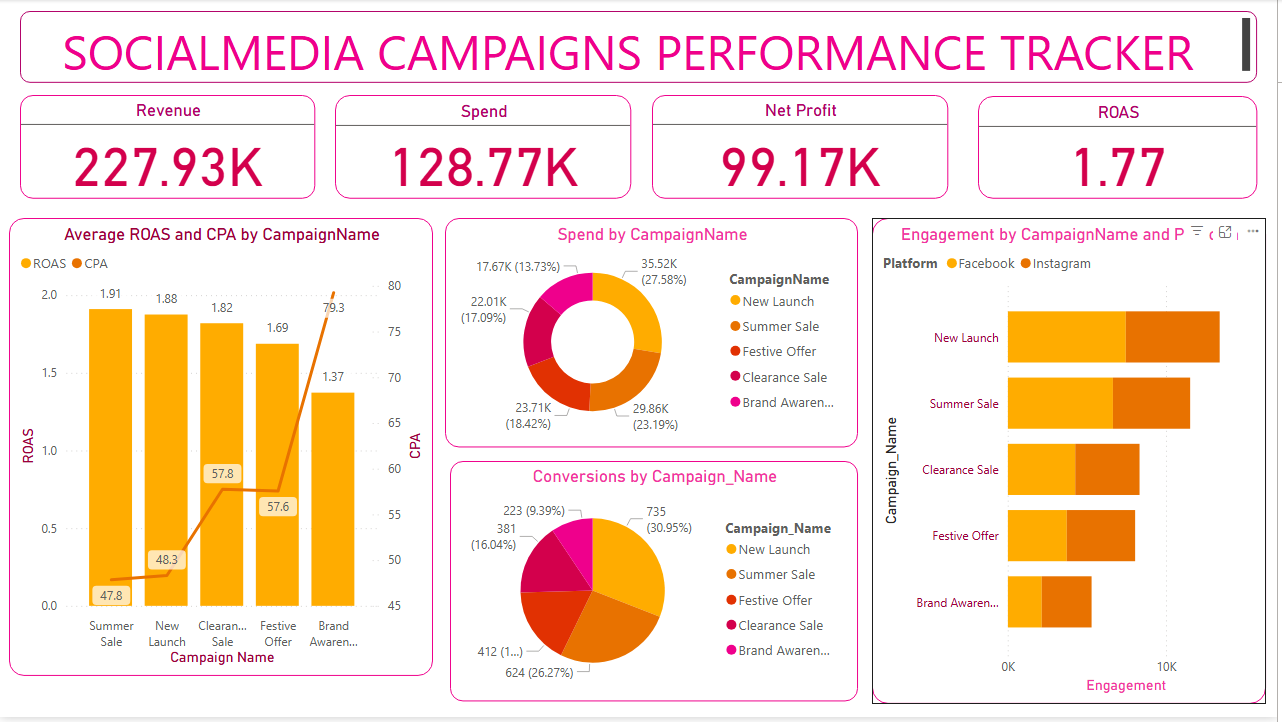

Layout of this report page (visuals, bound fields, positions):
{"tool":"powerbi","page":{"name":"Page 1","canvas":[1280,720],"ordinal":0},"visuals":[{"type":"textbox","box":[20,12,1239.9,72.2],"z":0},{"type":"card","title":"Revenue","fields":{"Values":["Sum(Social_Media_Campaign_Data (2).Revenue)"]},"box":[20,96.2,295.7,104.2],"z":1000},{"type":"lineClusteredColumnComboChart","title":"Average ROAS and CPA by CampaignName","fields":{"Category":["Social_Media_Campaign_Data (2).Campaign_Name"],"Y":["Social_Media_Campaign_Data (2).ROAS"],"Y2":["Social_Media_Campaign_Data (2).CPA"]},"box":[9,219.5,425,459.1],"z":2000},{"type":"donutChart","title":"Spend by CampaignName","fields":{"Y":["Sum(Social_Media_Campaign_Data (2).Spend)"],"Category":["Social_Media_Campaign_Data (2).Campaign_Name"]},"box":[446,219.5,414,229.5],"z":3000},{"type":"pieChart","title":"Conversions by Campaign_Name","fields":{"Y":["Sum(Social_Media_Campaign_Data (2).Conversions)"],"Category":["Social_Media_Campaign_Data (2).Campaign_Name"]},"box":[451.1,463.1,409,240.6],"z":4000},{"type":"barChart","title":"Engagement by CampaignName and Platform","fields":{"Y":["Social_Media_Campaign_Data (2).Engagement"],"Category":["Social_Media_Campaign_Data (2).Campaign_Name"],"Series":["Social_Media_Campaign_Data (2).Platform"]},"box":[874,219.5,394.9,487.1],"z":5000},{"type":"card","title":"Spend","fields":{"Values":["Sum(Social_Media_Campaign_Data (2).Spend)"]},"box":[335.8,96.2,296.7,104.2],"z":6000},{"type":"card","title":"Net Profit","fields":{"Values":["Social_Media_Campaign_Data (2).Net Profit"]},"box":[653.5,96.2,296.7,104.2],"z":7000},{"type":"card","title":"ROAS","fields":{"Values":["Social_Media_Campaign_Data (2).ROAS"]},"box":[980.3,97.2,279.7,103.2],"z":8000}]}

Visuals, with their boxes in screenshot pixels (x1, y1, x2, y2), scaled from the page's 1280x720 canvas onto the 1282x722 screenshot:
textbox: x1=20 y1=12 x2=1262 y2=84
"Revenue" card: x1=20 y1=96 x2=316 y2=201
"Average ROAS and CPA by CampaignName" lineClusteredColumnComboChart: x1=9 y1=220 x2=435 y2=680
"Spend by CampaignName" donutChart: x1=447 y1=220 x2=861 y2=450
"Conversions by Campaign_Name" pieChart: x1=452 y1=464 x2=861 y2=706
"Engagement by CampaignName and Platform" barChart: x1=875 y1=220 x2=1271 y2=709
"Spend" card: x1=336 y1=96 x2=633 y2=201
"Net Profit" card: x1=655 y1=96 x2=952 y2=201
"ROAS" card: x1=982 y1=97 x2=1262 y2=201
